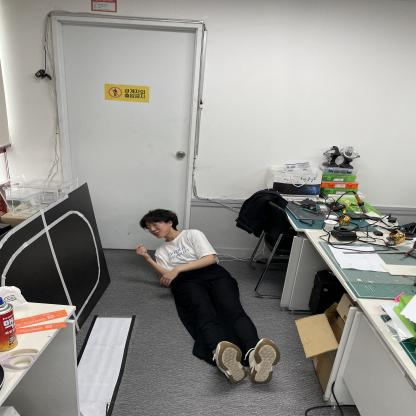fall: (133, 202, 287, 384)
